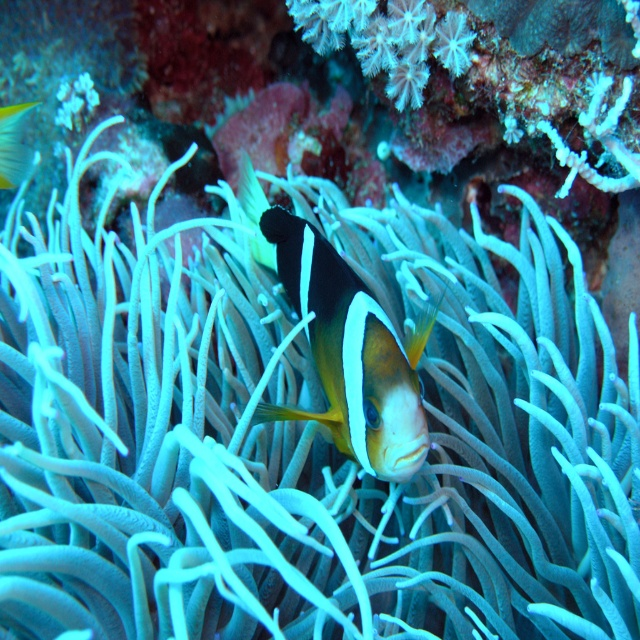Fish: (237, 150, 446, 483), (0, 101, 45, 191)
